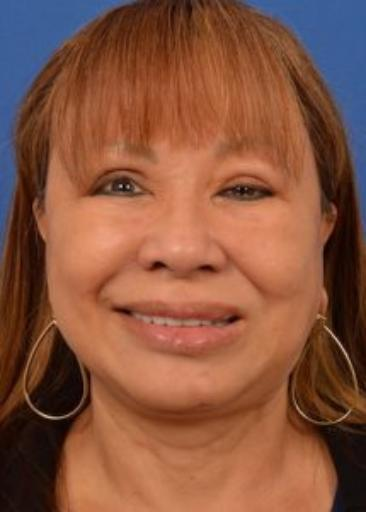left_eye: (213, 184, 277, 208)
left_lip_corner: (230, 312, 252, 328)
right_eye: (93, 175, 153, 203)
right_lip_corner: (106, 301, 128, 320)
